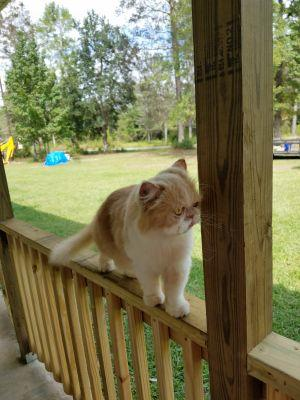persian: (136, 159, 205, 238)
